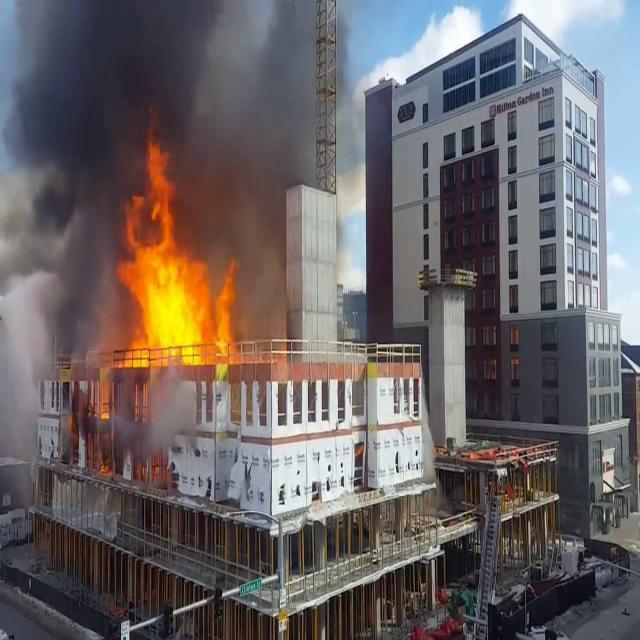Fire: (118, 142, 240, 368)
